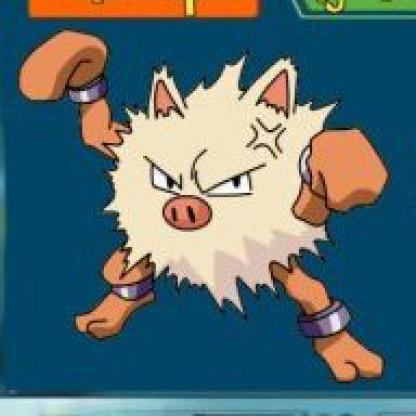Primeape: (22, 28, 397, 383)
